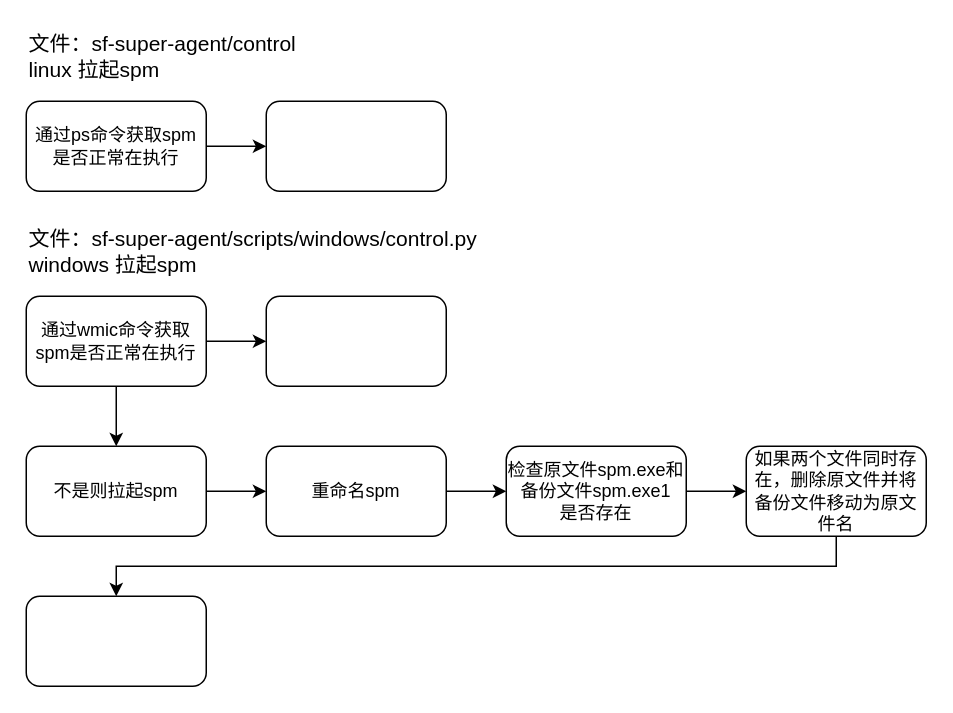
This 953x713 diagram has some shape labels left out. The shapes that lost their labels are listed below. From the top down, each one's centre as x and y in pixels, then its label:
At (x=355, y=145): "不是则拉起spm， 是则退出".
At (x=355, y=340): "是则退出".
At (x=115, y=640): "如果只有备份文件存在，将其移动为原文件名".
